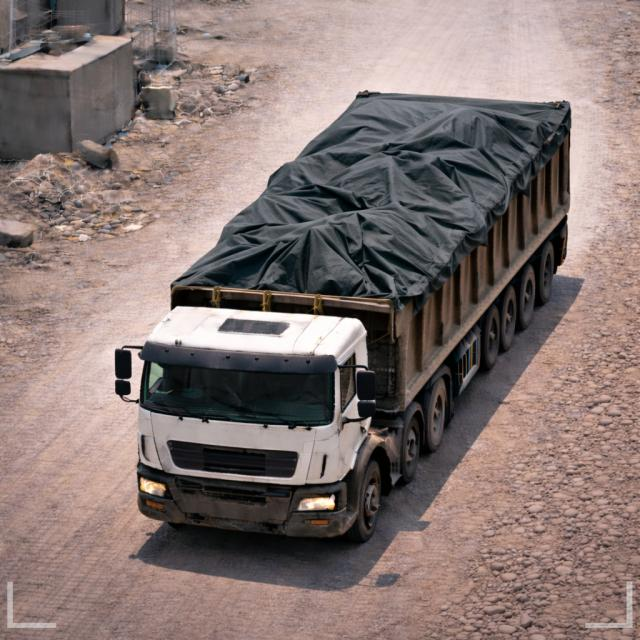Box: (170, 89, 570, 301)
Truck: (112, 85, 584, 522)
